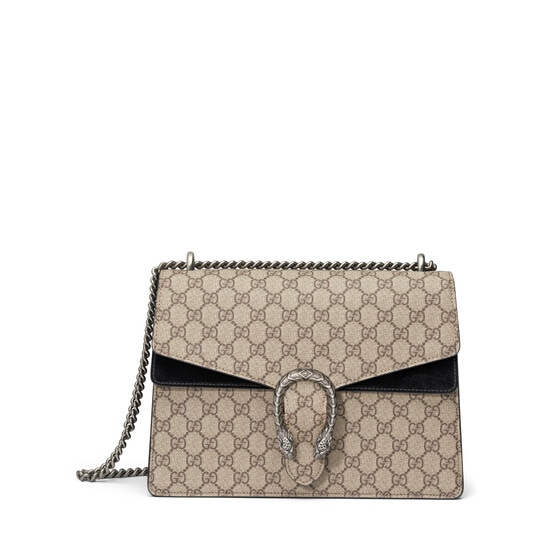Gucci: (103, 213, 490, 521), (244, 343, 364, 480), (197, 286, 416, 353)
